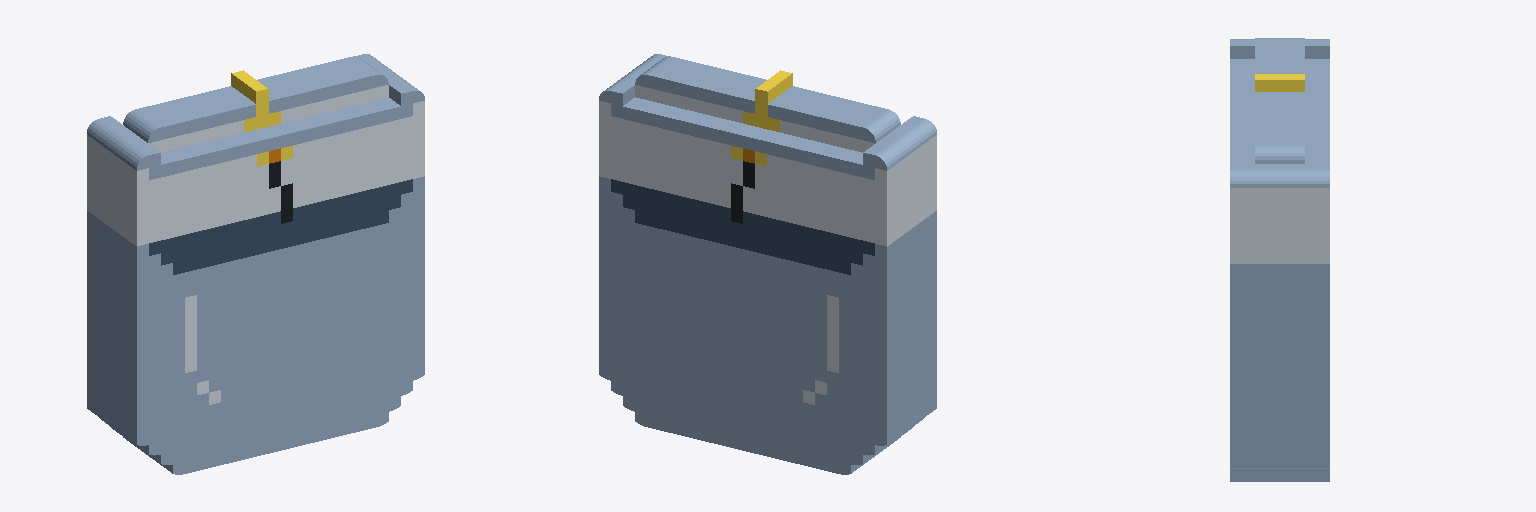
Rendered from Candle.obj.
3 views of the same model, side by side, from view 1: azimuth 30°, elevation 25°; view 2: azimuth 150°, elevation 25°; view 3: azimuth 270°, elevation 25° (orthographic).
Bounding box in the file's own units: 24 × 28 × 7.2.